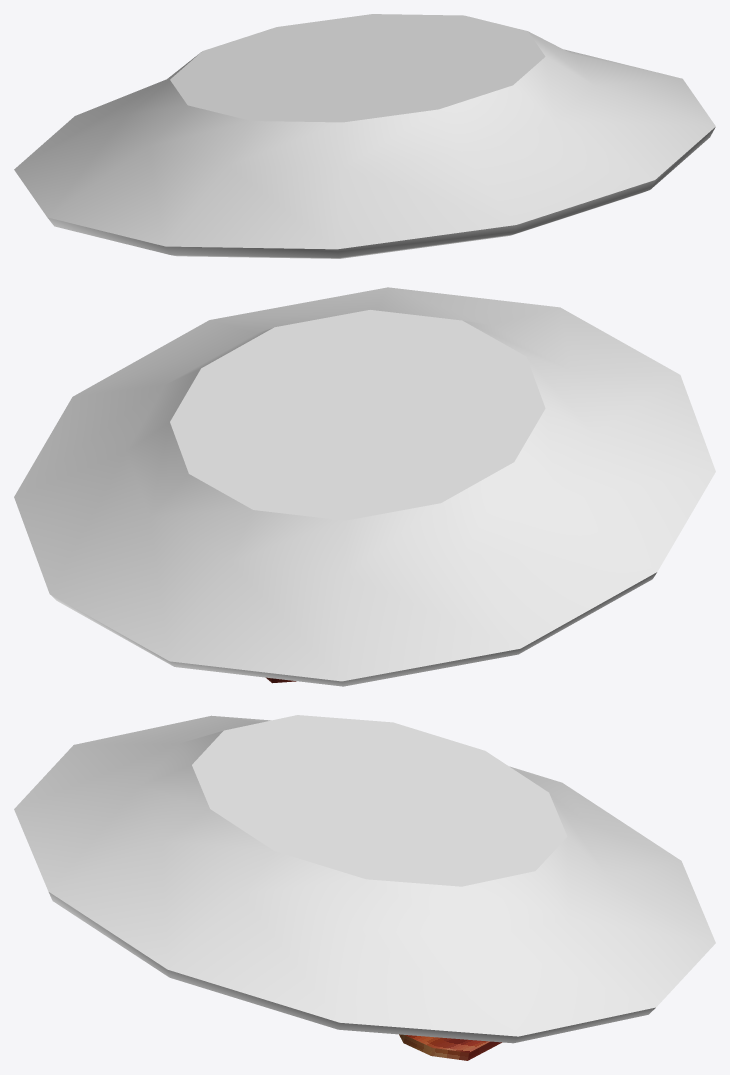
Rendered from H_Plate_BaconEggs.fbx.
3 renders of one model, top to bottom at view 1: azimuth 30°, elevation 25°; view 2: azimuth 150°, elevation 25°; view 3: azimuth 270°, elevation 25°, orthographic.
Visible parts, largest first — view 1: FriedEgg.001; view 2: FriedEgg.001; view 3: FriedEgg.001.
Part boxes in pixels (bbox=[...]): FriedEgg.001: bbox=[14, 14, 715, 258]; FriedEgg.001: bbox=[14, 287, 715, 686]; FriedEgg.001: bbox=[14, 715, 715, 1060].
Size of the model in its own units: 43.57 by 12.3 by 42.91.
